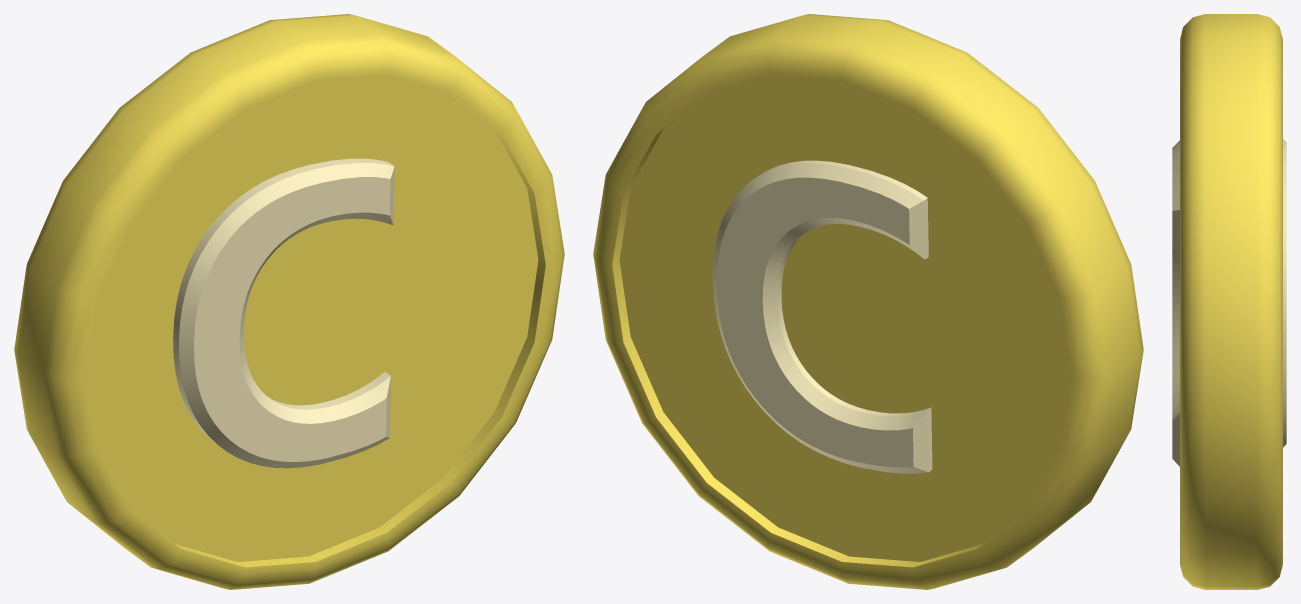
Rendered from Coin2.fbx.
The picture shows the model from 3 angles, left to right: view 1: azimuth 30°, elevation 25°; view 2: azimuth 150°, elevation 25°; view 3: azimuth 270°, elevation 25°; orthographic projection. The views are drawn at different scales.
Parts seen in each view (by area): view 1: Coin; view 2: Coin; view 3: Coin.
Boxes of the visible parts, box(x1,y1,x2,y2) form: Coin: box(14, 14, 564, 589); Coin: box(593, 14, 1143, 589); Coin: box(1172, 14, 1286, 589).
Bounding box in the file's own units: 80 × 80 × 15.79.
